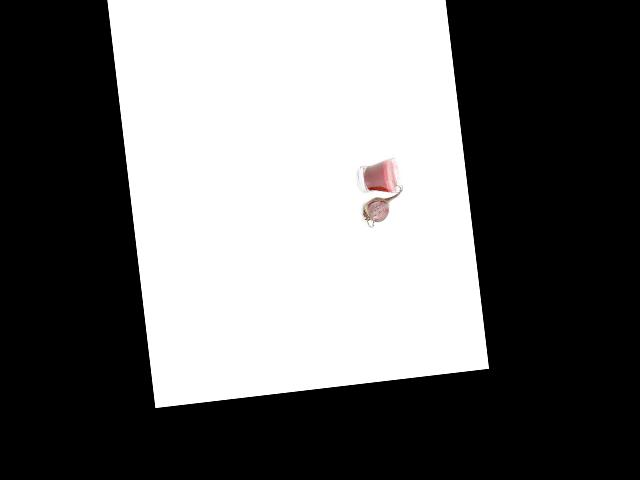beet: (358, 179, 406, 227)
